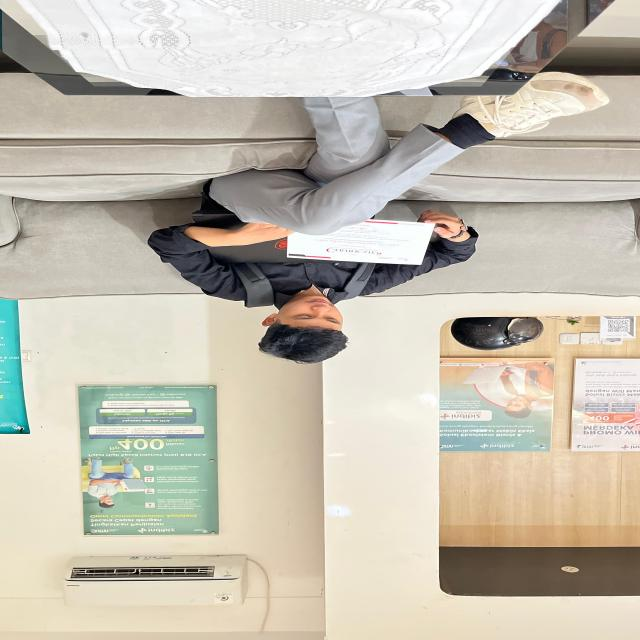nohelmet: (254, 300, 357, 371)
